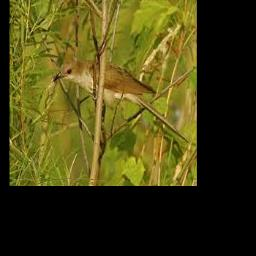Cuckoo: (53, 60, 190, 143)
